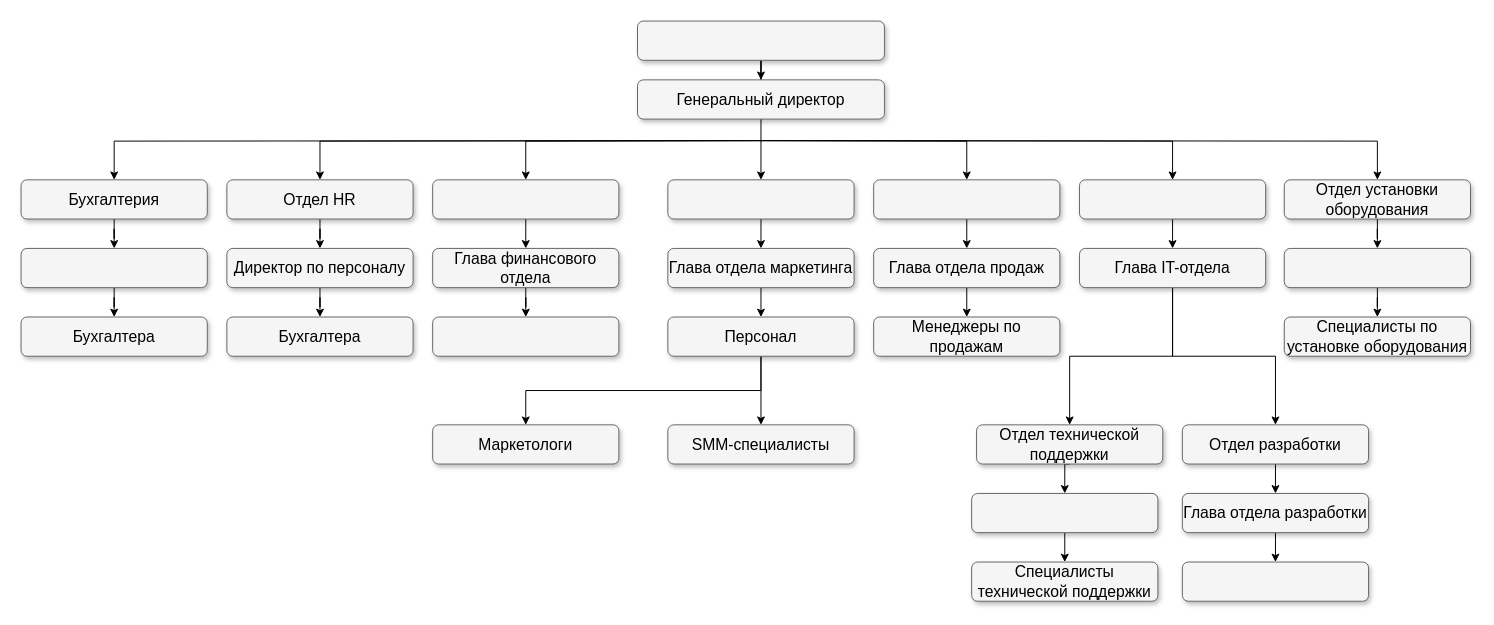
Image size: 1494x625. Some labels were removed from this diagram. The centre of each missing label's shape, as x and y in pixels:
АО "Элекснет": (x=761, y=41)
Глава отдела технической поддержки: (x=1065, y=514)
Главный бухгалтер: (x=114, y=269)
Директор IT-отдела: (x=1173, y=200)
Директор отдела по установке оборужования: (x=1377, y=269)
Отдел маркетинга: (x=761, y=200)
Отдел продаж: (x=967, y=200)
Разработчики: (x=1275, y=582)
Финансовые аналитики: (x=526, y=337)
Финансовый отдел: (x=526, y=200)
